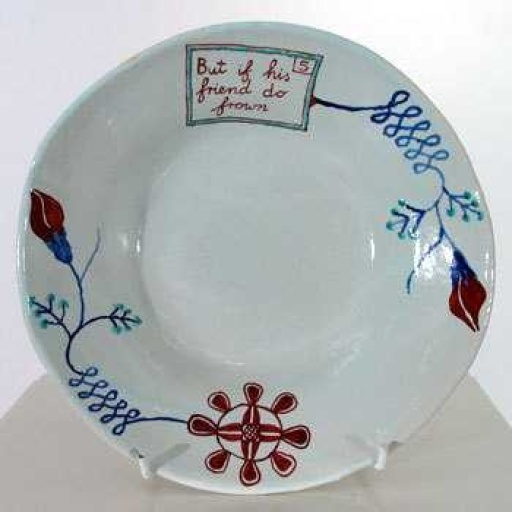piring: (23, 21, 493, 496)
